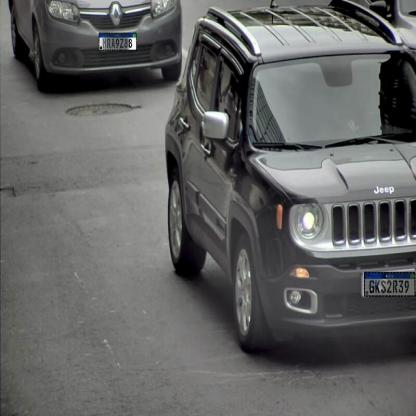PlacaM: (364, 272, 415, 297), (99, 32, 137, 51)
